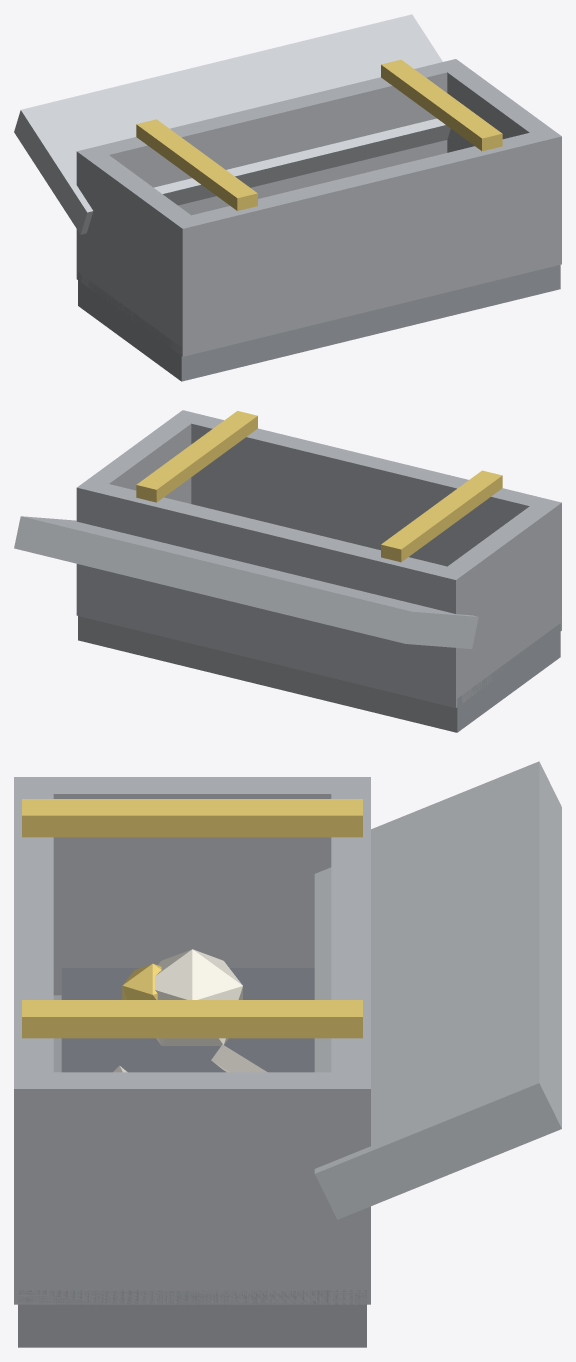
File: open_sarcophagus.glb
3 views of the same model, one above another, from view 1: azimuth 30°, elevation 25°; view 2: azimuth 150°, elevation 25°; view 3: azimuth 270°, elevation 25° (orthographic). The views are drawn at different scales.
Visible parts, largest first — view 1: side_0, lid, side_1, floor, end_0, end_1, trim_0.001, trim_1.001; view 2: side_1, side_0, lid, floor, end_0, end_1, trim_0.001, trim_1.001; view 3: lid, end_1, end_0, side_0, floor, side_1, trim_0.001, trim_1.001, inner.001, skull, mask, bone_2.
Boxes of the visible parts, x1,y1,x2,y2 form: side_0: (171,128,561,356); lid: (14,14,450,234); side_1: (76,59,467,287); floor: (78,265,560,381); end_0: (82,155,195,347); end_1: (445,64,554,152); trim_0.001: (136,119,257,210); trim_1.001: (381,59,502,151); side_1: (76,479,467,707); side_0: (171,410,561,630); lid: (14,516,478,648); floor: (78,616,560,732); end_0: (448,503,555,702); end_1: (84,414,196,503); trim_0.001: (381,470,502,562); trim_1.001: (136,411,257,502); lid: (314,761,561,1219); end_1: (33,1072,350,1304); end_0: (34,777,350,995); side_0: (14,777,53,1304); floor: (18,995,366,1347); side_1: (331,777,370,1304); trim_0.001: (22,799,362,837); trim_1.001: (22,1000,362,1038); inner.001: (61,968,314,1072); skull: (155,949,242,1045); mask: (122,963,161,999); bone_2: (211,1044,267,1072).
Bounding box in the file's own units: 1.92 × 0.79 × 1.38.
